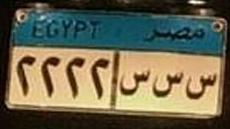2: (89, 56, 112, 101), (39, 55, 61, 100), (64, 56, 86, 100), (15, 55, 36, 99)
seen: (151, 68, 184, 103), (119, 63, 150, 100), (185, 71, 217, 104)
